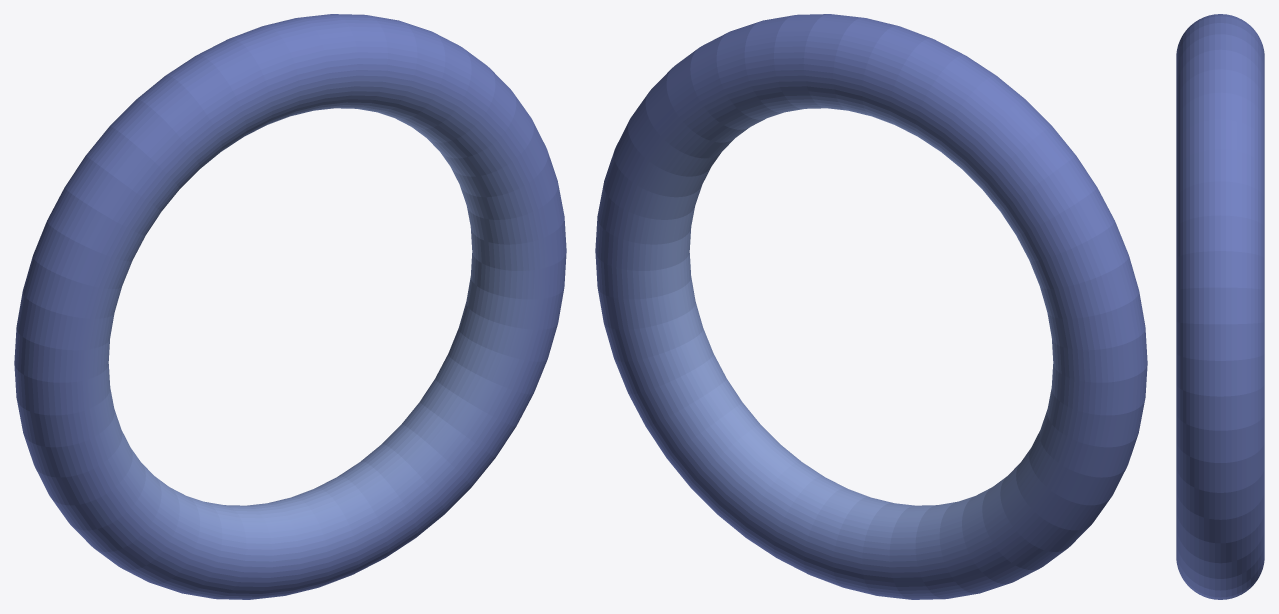
3 views of the same model, side by side, from view 1: azimuth 30°, elevation 25°; view 2: azimuth 150°, elevation 25°; view 3: azimuth 270°, elevation 25° (orthographic). The views are drawn at different scales.
Visible parts, largest first — view 1: world; view 2: world; view 3: world.
Part boxes in pixels (box(x1,y1,x2,y2)): world: box(14, 14, 566, 599); world: box(595, 14, 1147, 599); world: box(1176, 14, 1264, 599).
Bounding box in the file's own units: 22 × 21.96 × 3.33.
